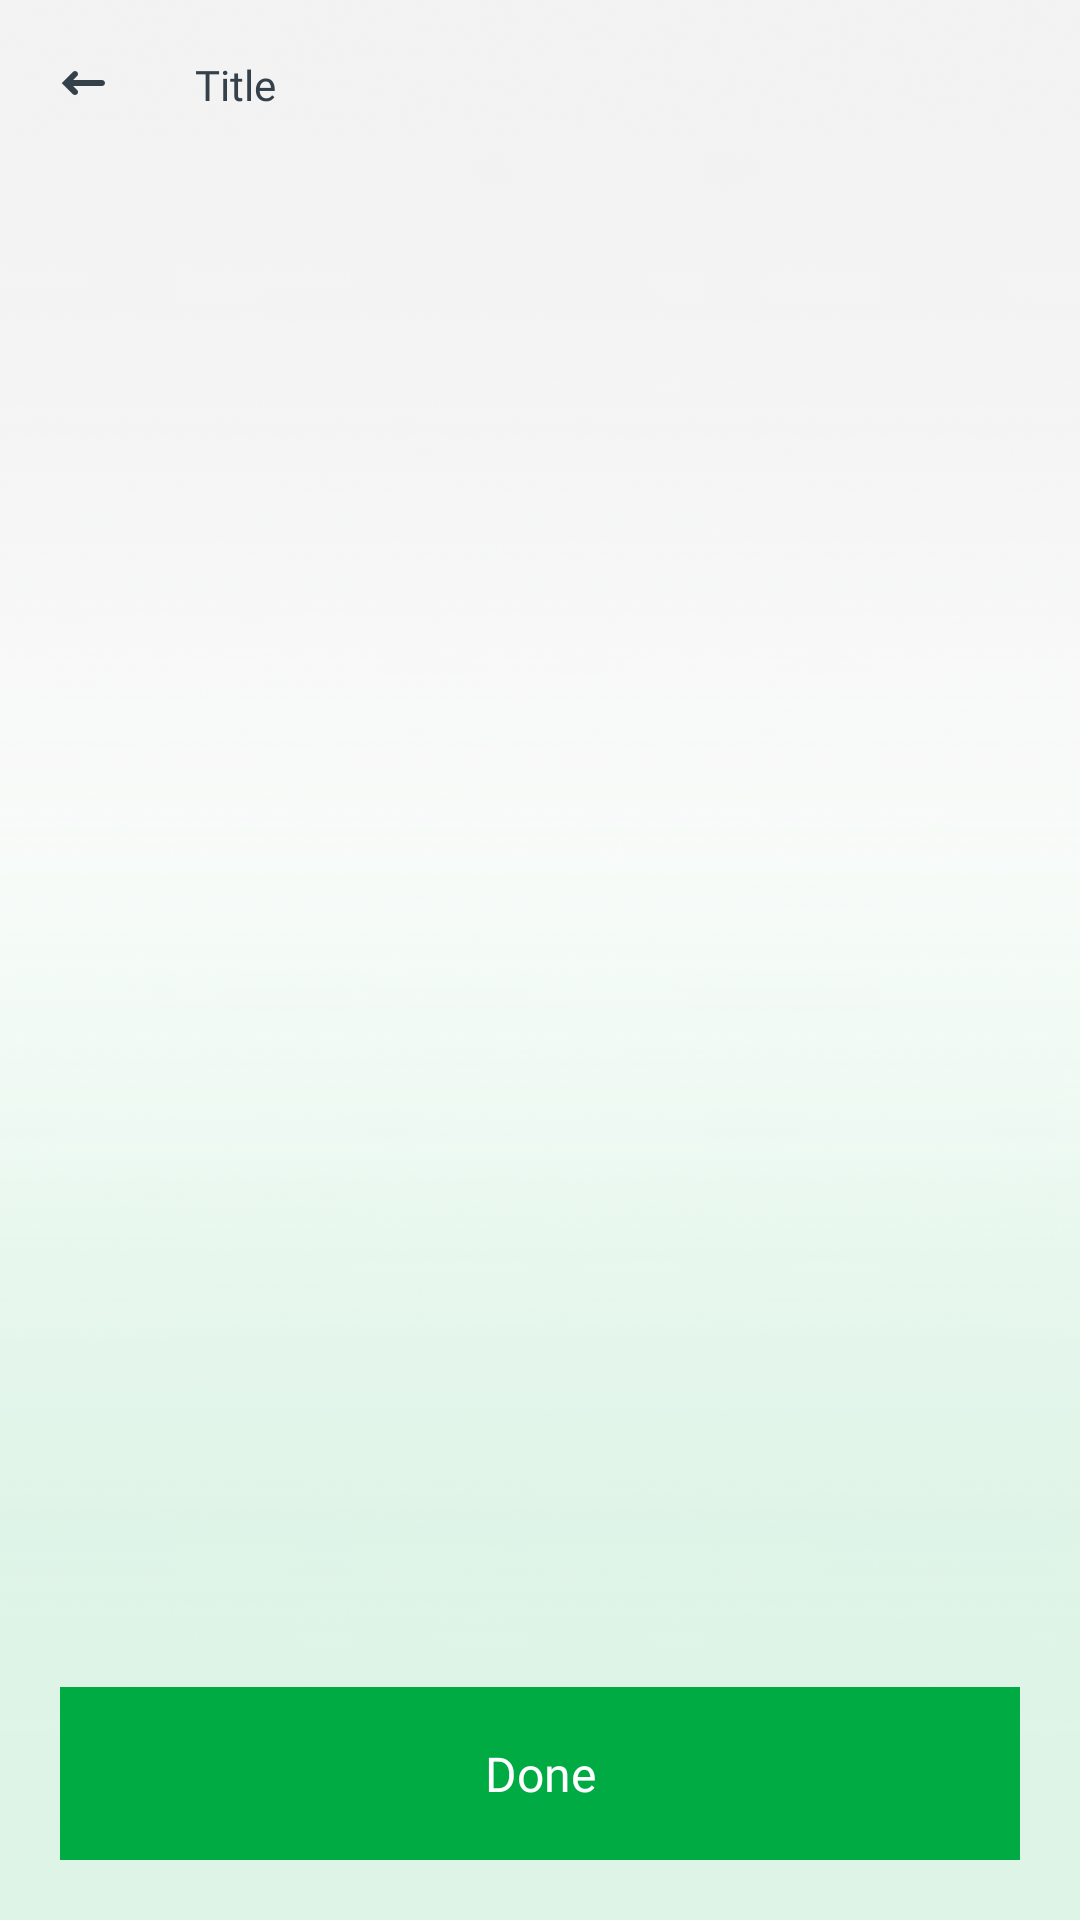

Where to tap for icons on this 1080x1920 app screen, as [x,y]:
back: [83,83]
